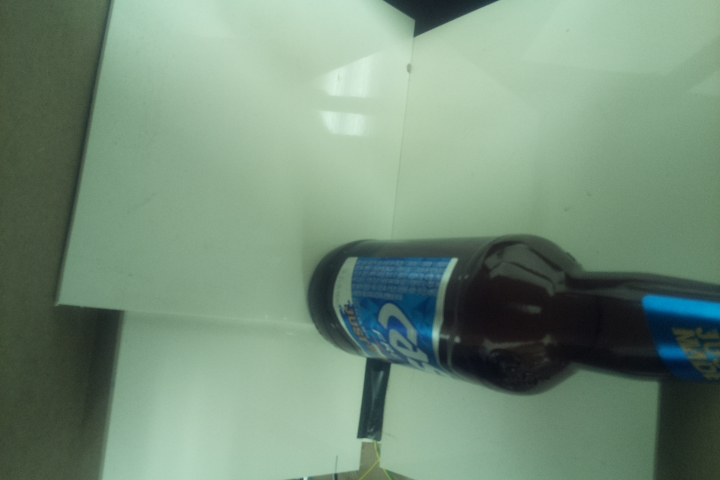makju: (303, 235, 720, 399)
